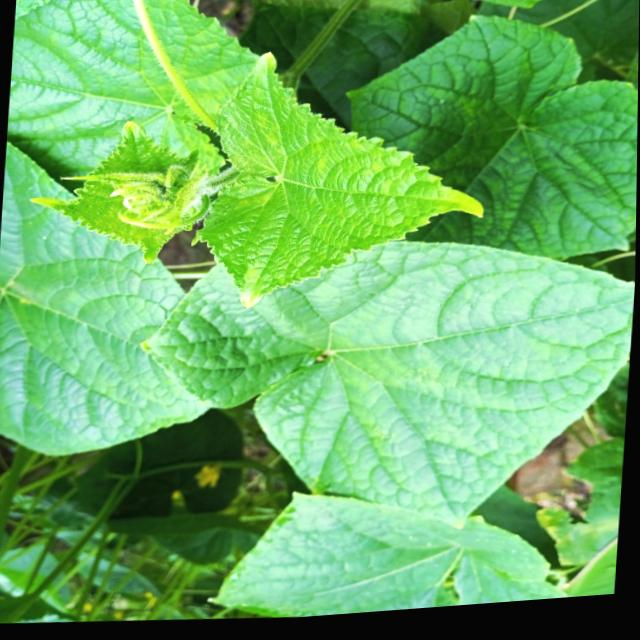Fresh-Leaf: (140, 239, 635, 526), (199, 49, 483, 302)
